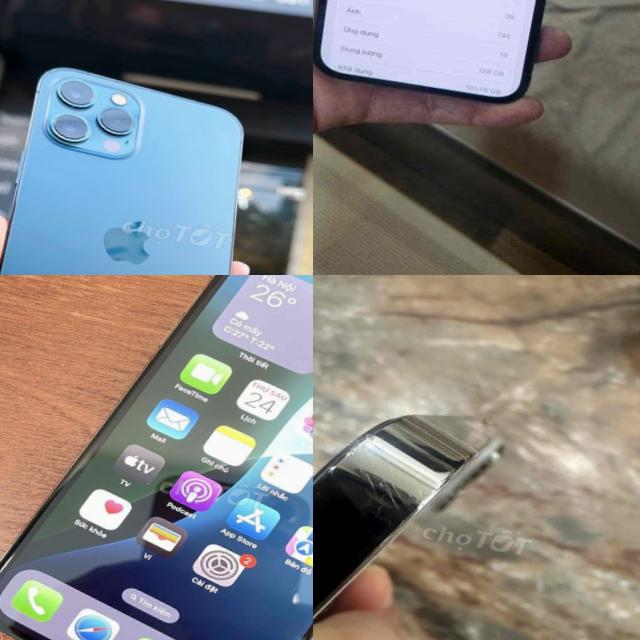gen_12_13: (0, 50, 287, 275), (313, 0, 602, 112)
gen_14: (313, 351, 536, 640)
gen_x_xs: (0, 275, 313, 640)
